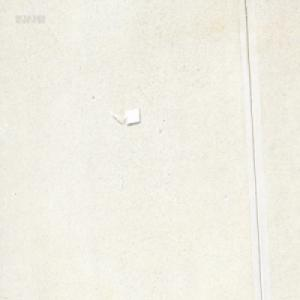LuggageTag: (110, 108, 140, 125)
